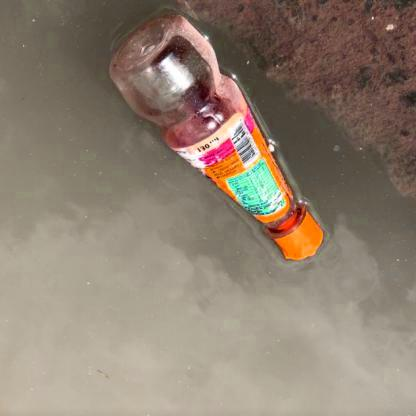Glass: (107, 7, 328, 265)
